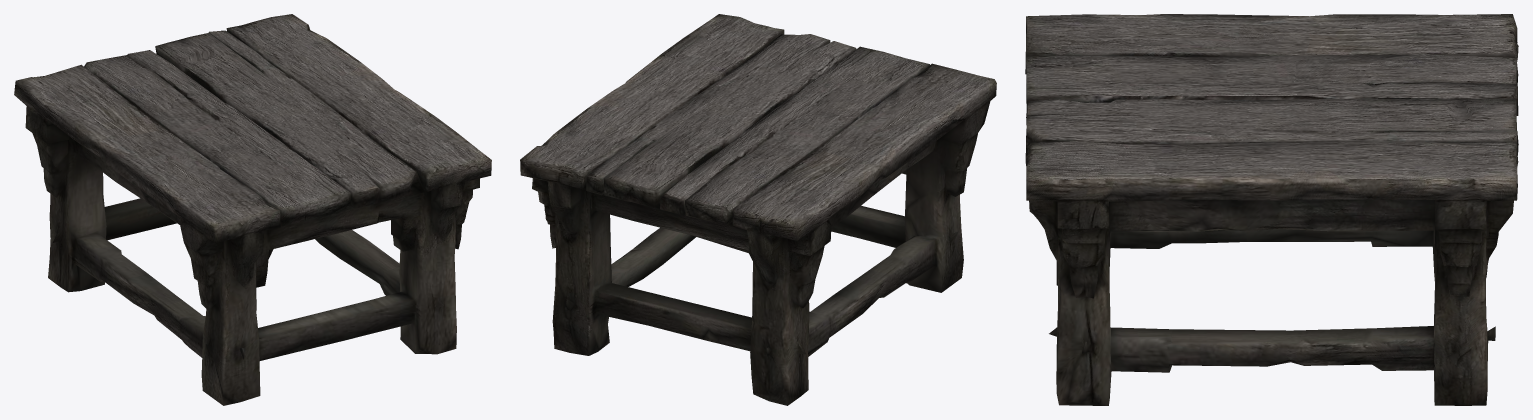
The model's file is work_table_rustic.glb.
3 views of the same model, side by side, from view 1: azimuth 30°, elevation 25°; view 2: azimuth 150°, elevation 25°; view 3: azimuth 270°, elevation 25° (orthographic). The views are drawn at different scales.
Visible parts, largest first — view 1: tripo_node_4e86b643-fdb5-4555-b89f-0fc9dcd9f6c1; view 2: tripo_node_4e86b643-fdb5-4555-b89f-0fc9dcd9f6c1; view 3: tripo_node_4e86b643-fdb5-4555-b89f-0fc9dcd9f6c1.
Boxes of the visible parts, x1,y1,x2,y2 form: tripo_node_4e86b643-fdb5-4555-b89f-0fc9dcd9f6c1: (14,14,491,405); tripo_node_4e86b643-fdb5-4555-b89f-0fc9dcd9f6c1: (520,14,996,405); tripo_node_4e86b643-fdb5-4555-b89f-0fc9dcd9f6c1: (1025,14,1518,405).
Size of the model in its own units: 0.8027 by 0.5347 by 1.
Materials: 1 (1 with a texture image).
